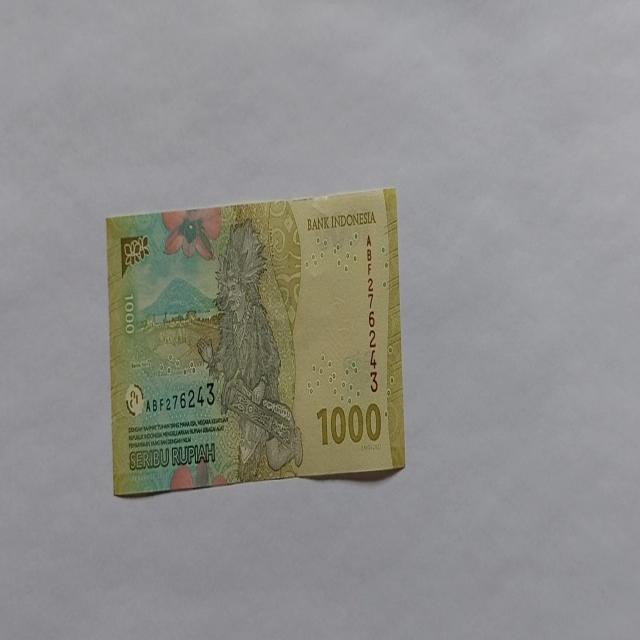seribu rupiah kertas: (104, 186, 406, 497)
